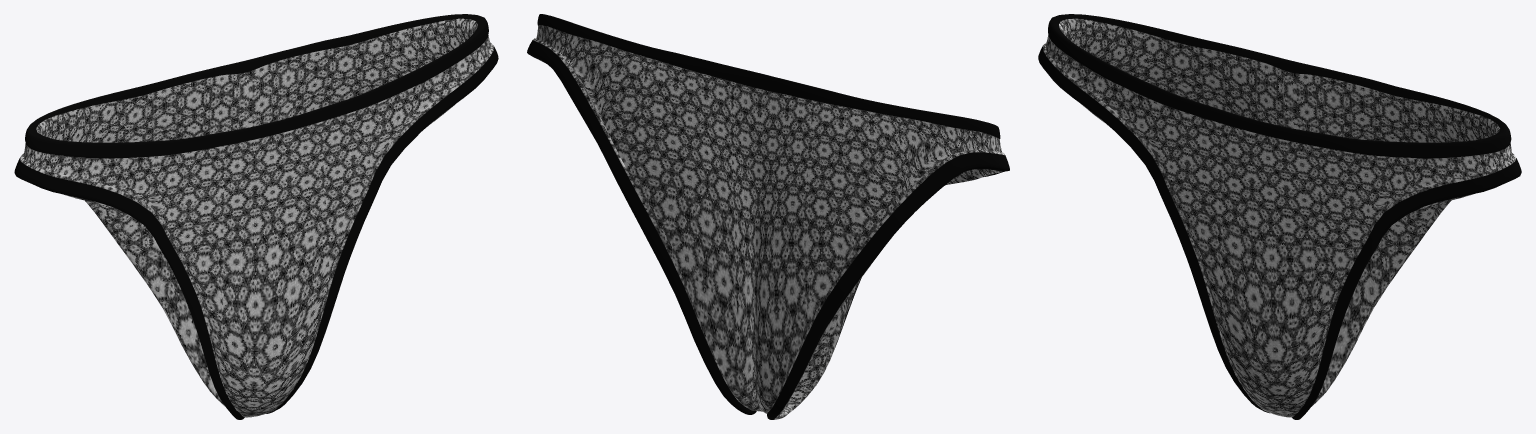
File: monochrome_panties.dae
The picture shows the model from 3 angles, left to right: view 1: azimuth 30°, elevation 25°; view 2: azimuth 150°, elevation 25°; view 3: azimuth 330°, elevation 25°; orthographic projection.
Visible parts, largest first — view 1: Object__0_002; view 2: Object__0_002; view 3: Object__0_002.
Part boxes in pixels (x1,y1,x2,y2): Object__0_002: (14, 14, 498, 419); Object__0_002: (527, 14, 1009, 419); Object__0_002: (1038, 14, 1521, 419).
Size of the model in its own units: 0.3045 by 0.0363 by 0.2116.
Materials: 2 (1 with a texture image).
